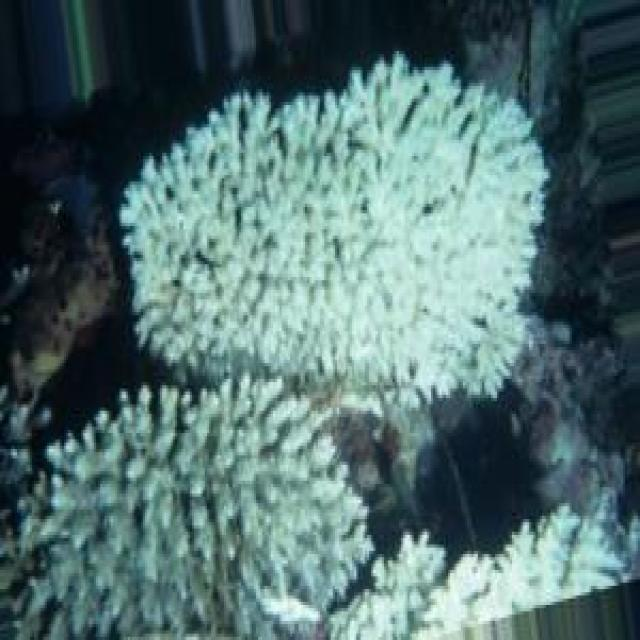bleached coral: (224, 264, 348, 360), (352, 306, 463, 408), (247, 474, 365, 557), (77, 525, 183, 605), (51, 433, 171, 503), (139, 194, 228, 261), (412, 226, 474, 322), (410, 105, 486, 181), (412, 560, 480, 640), (448, 312, 525, 382), (279, 124, 333, 210), (213, 414, 269, 490), (495, 108, 544, 188), (190, 118, 245, 181), (354, 156, 401, 226), (508, 223, 540, 318), (478, 532, 529, 570)
